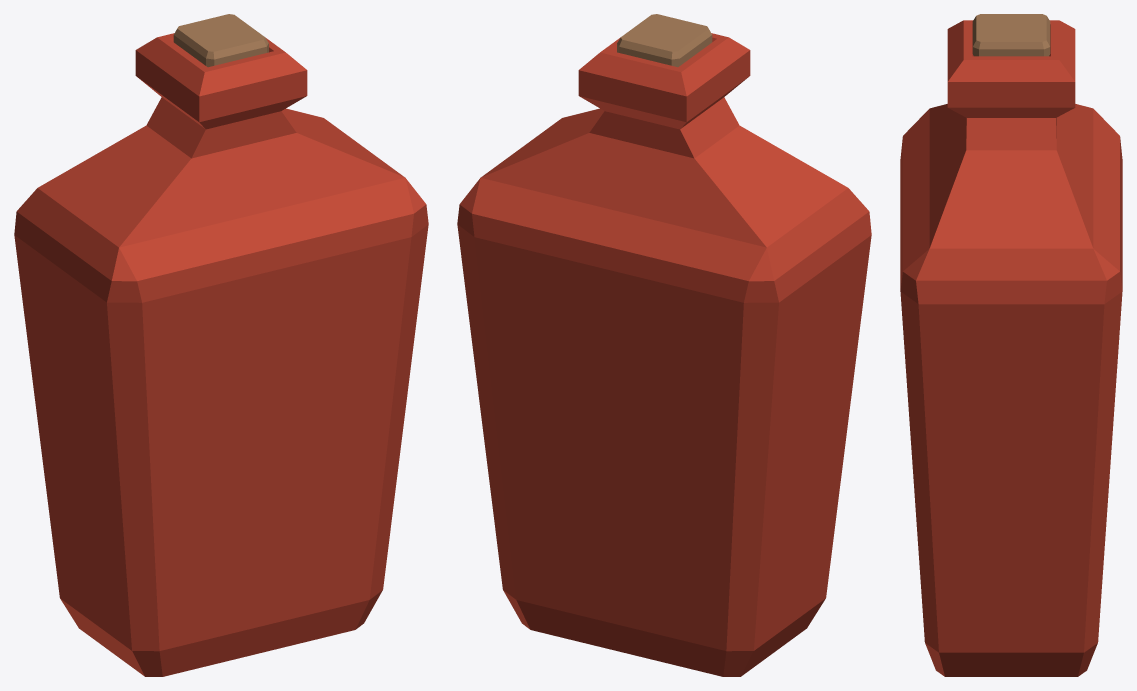
File: potion_10.glb
The picture shows the model from 3 angles, left to right: view 1: azimuth 30°, elevation 25°; view 2: azimuth 150°, elevation 25°; view 3: azimuth 270°, elevation 25°; orthographic projection.
Parts seen in each view (by area): view 1: potion_10; view 2: potion_10; view 3: potion_10.
Boxes of the visible parts, x1=… form: potion_10: x1=14, y1=14, x2=428, y2=676; potion_10: x1=457, y1=14, x2=871, y2=676; potion_10: x1=900, y1=14, x2=1122, y2=676.
Size of the model in its own units: 0.2296 by 0.4043 by 0.1367.
2 materials, 2 textured.
